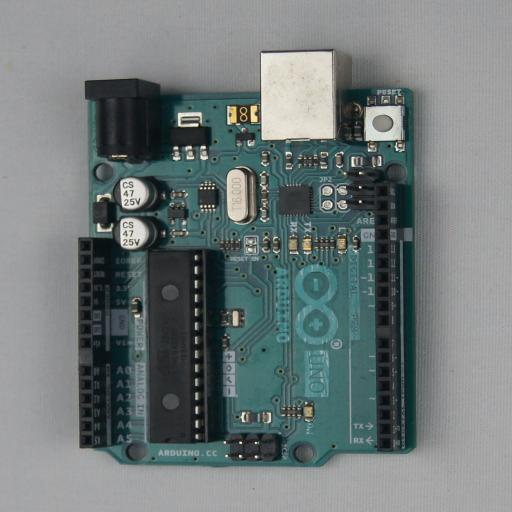Arduino Uno -Green-: (78, 49, 429, 467)
